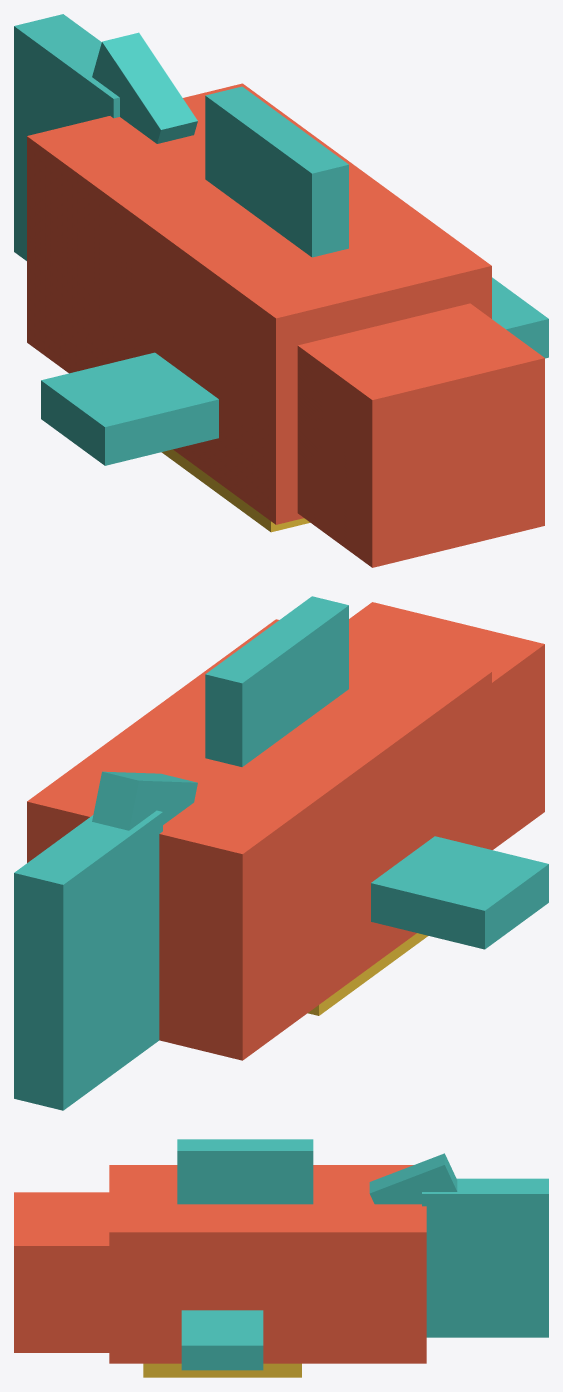
File: fish.glb
3 views of the same model, one above another, from view 1: azimuth 30°, elevation 25°; view 2: azimuth 150°, elevation 25°; view 3: azimuth 270°, elevation 25° (orthographic). The views are drawn at different scales.
Parts seen in each view (by area): view 1: fish; view 2: fish; view 3: fish.
Part boxes in pixels (bbox=[...]): fish: bbox=[14, 14, 548, 567]; fish: bbox=[14, 596, 548, 1110]; fish: bbox=[14, 1139, 548, 1377].
Bounding box in the file's own units: 0.72 × 0.5 × 1.18.
